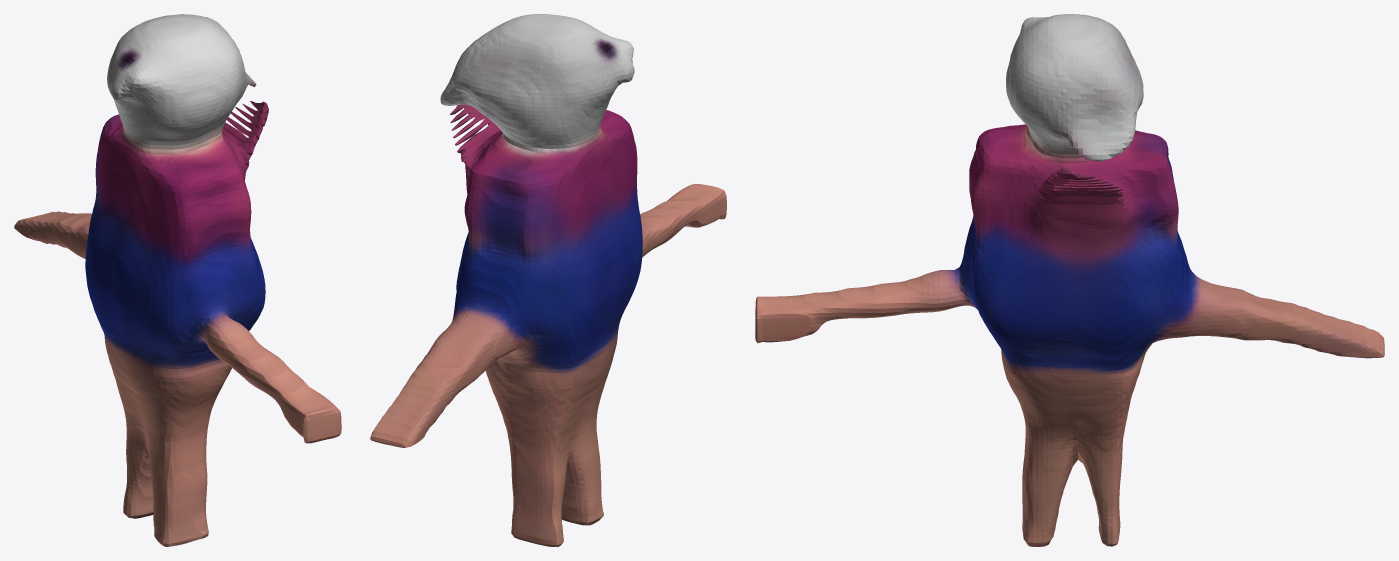
3 views of the same model, side by side, from view 1: azimuth 30°, elevation 25°; view 2: azimuth 150°, elevation 25°; view 3: azimuth 270°, elevation 25° (orthographic). The views are drawn at different scales.
Parts seen in each view (by area): view 1: tmp9m8yzcgg.ply; view 2: tmp9m8yzcgg.ply; view 3: tmp9m8yzcgg.ply.
Boxes of the visible parts, bbox=[...] form: tmp9m8yzcgg.ply: bbox=[14, 14, 341, 546]; tmp9m8yzcgg.ply: bbox=[370, 14, 726, 546]; tmp9m8yzcgg.ply: bbox=[755, 14, 1384, 546].
Size of the model in its own units: 0.6054 by 1.79 by 1.98.
